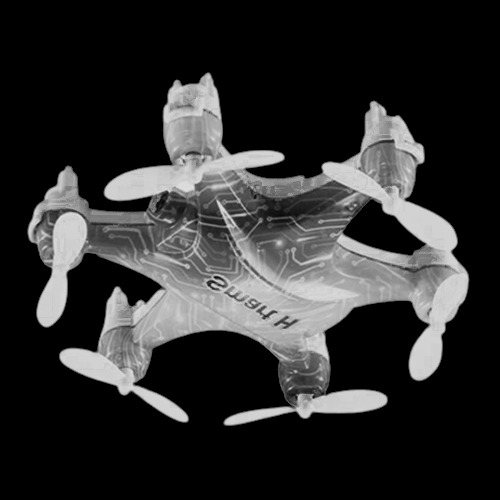drone: (25, 73, 467, 424)
